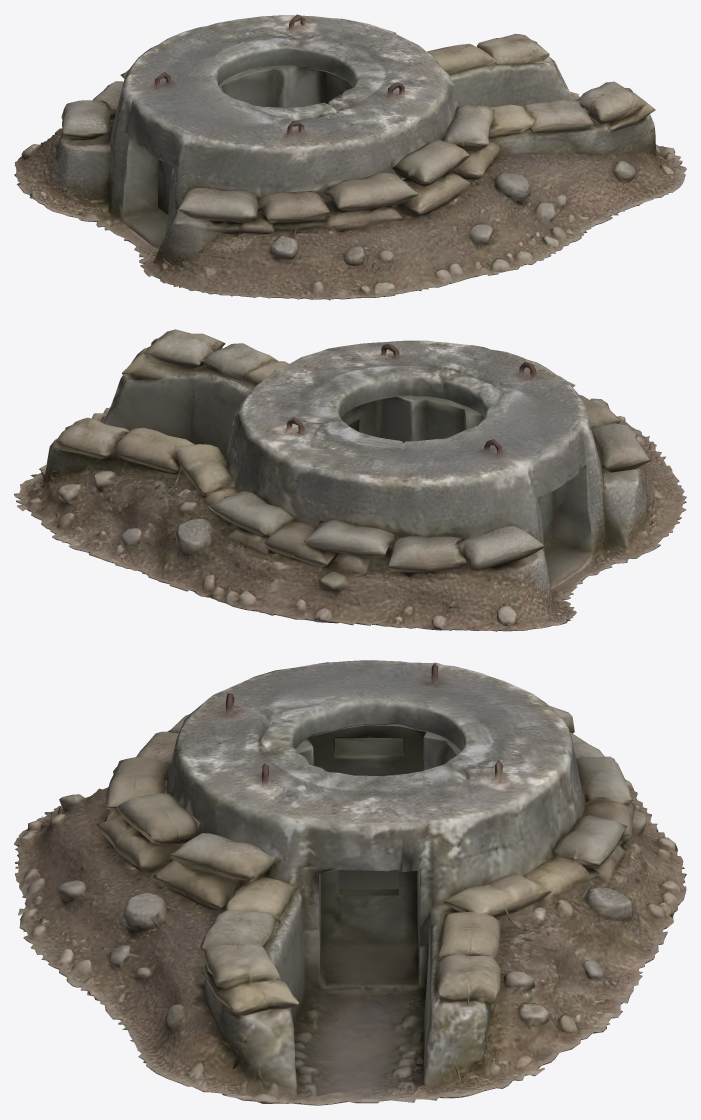
File: prop_tobruk.glb
3 views of the same model, one above another, from view 1: azimuth 30°, elevation 25°; view 2: azimuth 150°, elevation 25°; view 3: azimuth 270°, elevation 25° (orthographic). The views are drawn at different scales.
Parts seen in each view (by area): view 1: tripo_node_dd2564a1-482e-4272-9331-867e97dfaacb; view 2: tripo_node_dd2564a1-482e-4272-9331-867e97dfaacb; view 3: tripo_node_dd2564a1-482e-4272-9331-867e97dfaacb.
Part boxes in pixels (x1,y1,x2,y2): tripo_node_dd2564a1-482e-4272-9331-867e97dfaacb: (14,14,686,300); tripo_node_dd2564a1-482e-4272-9331-867e97dfaacb: (14,329,686,631); tripo_node_dd2564a1-482e-4272-9331-867e97dfaacb: (14,660,686,1105).
Size of the model in its own units: 1 by 0.2637 by 0.8544.
Materials: 1 (1 with a texture image).
